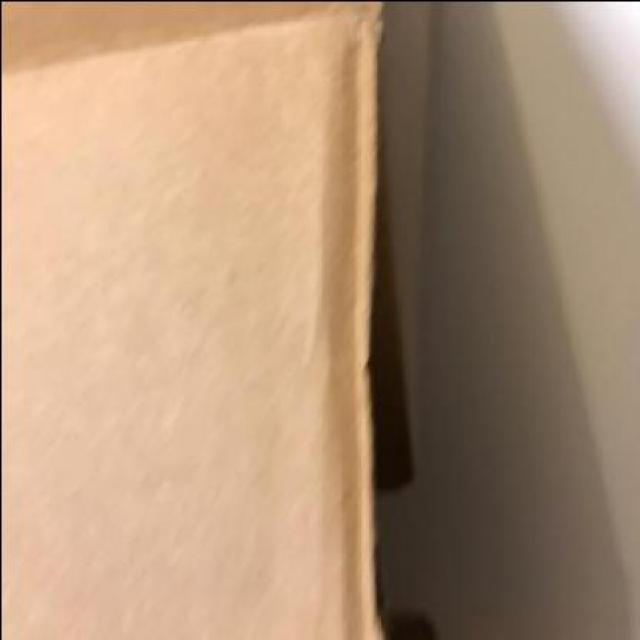CARDBOARD: (1, 0, 433, 638)
